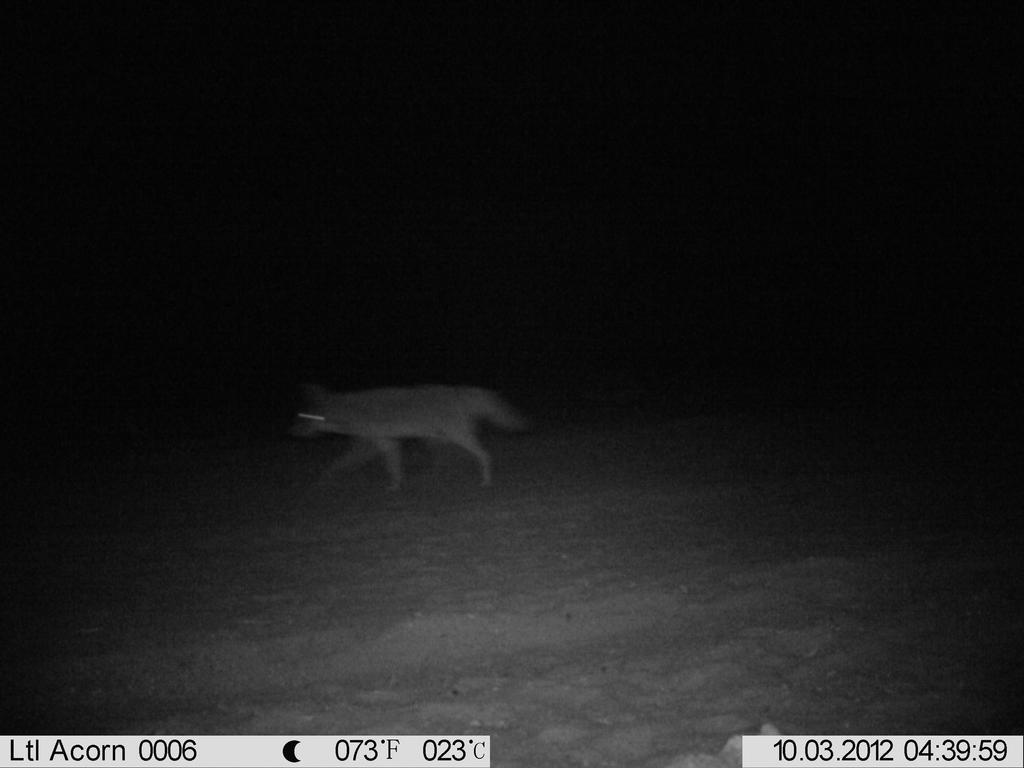coyote: (287, 381, 528, 501)
